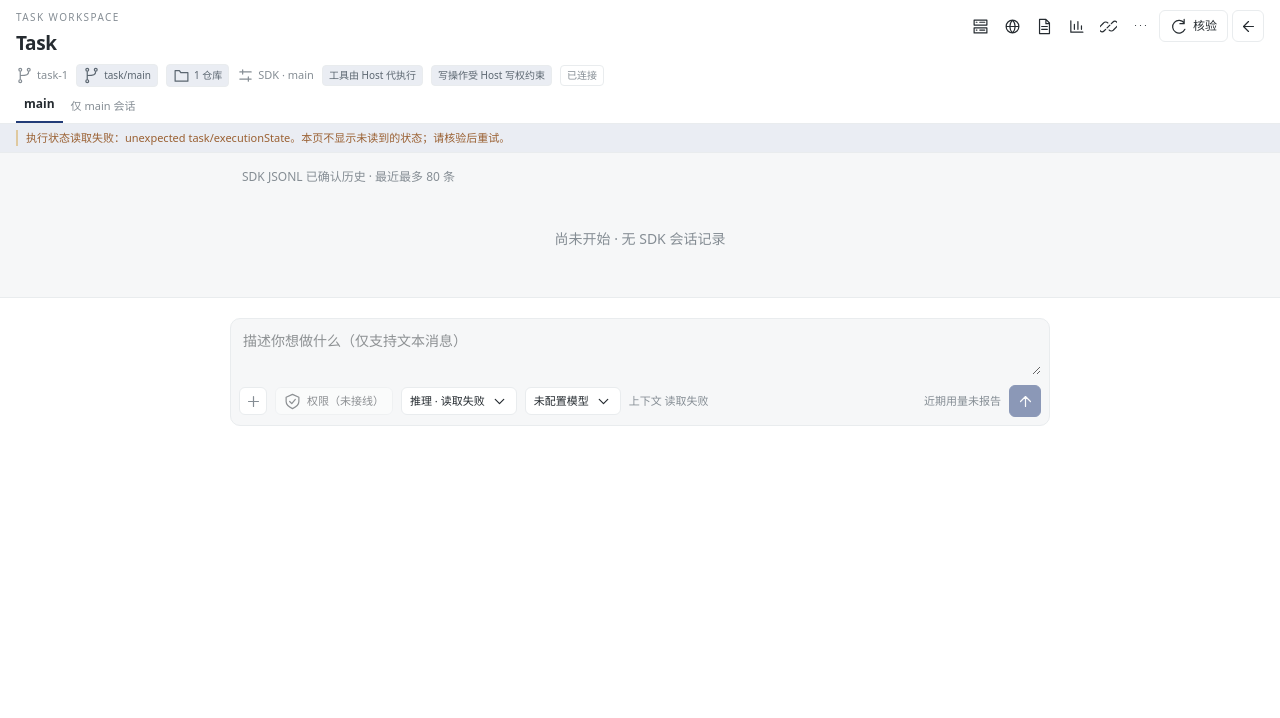
it: [PiDock 15] (#15 盒 3) 文件引用在桌面输入区 › [#117 第 1 项 / #16 盒 3] sends the reference identity with the turn and clears the chip
Expected: the text "尚未开始 · 无 SDK 会话记录" is shown, [554,229,725,248]
Click the button named "文件" at (1045, 26), box [1031,12,1059,40]
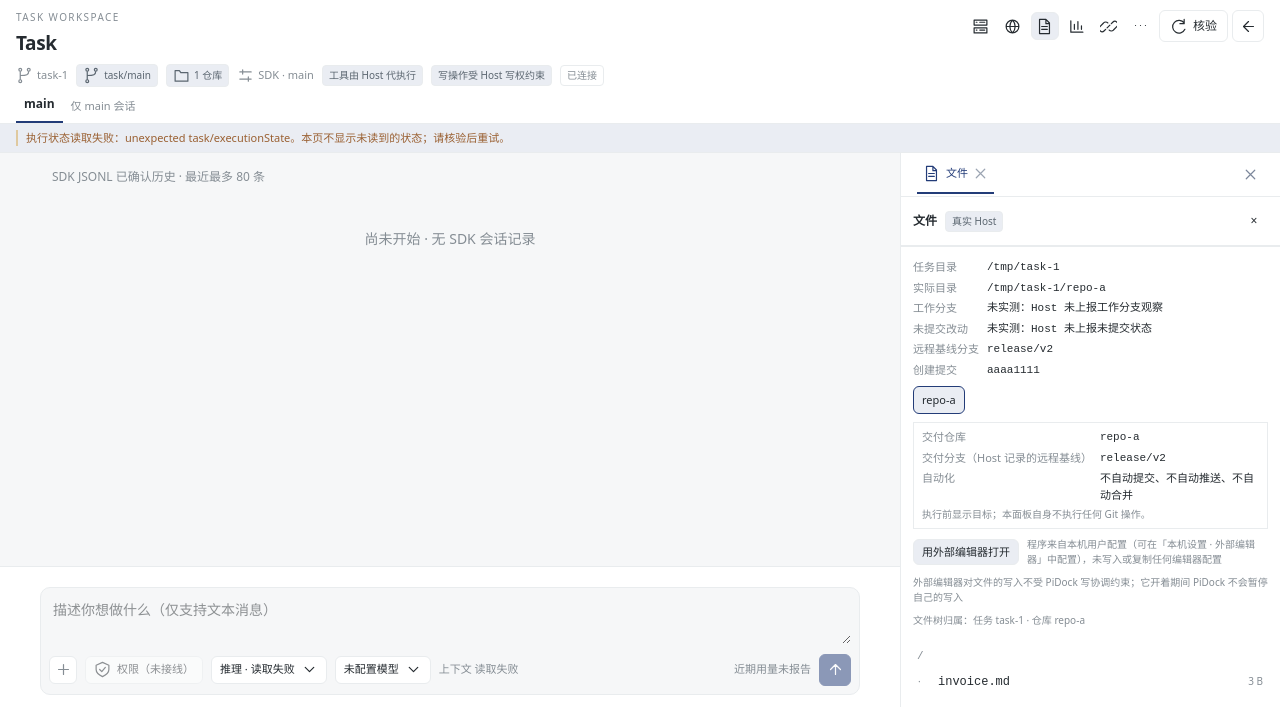
Click the text "invoice.md" at (974, 682), box [938,674,1010,690]
(page scrolled)
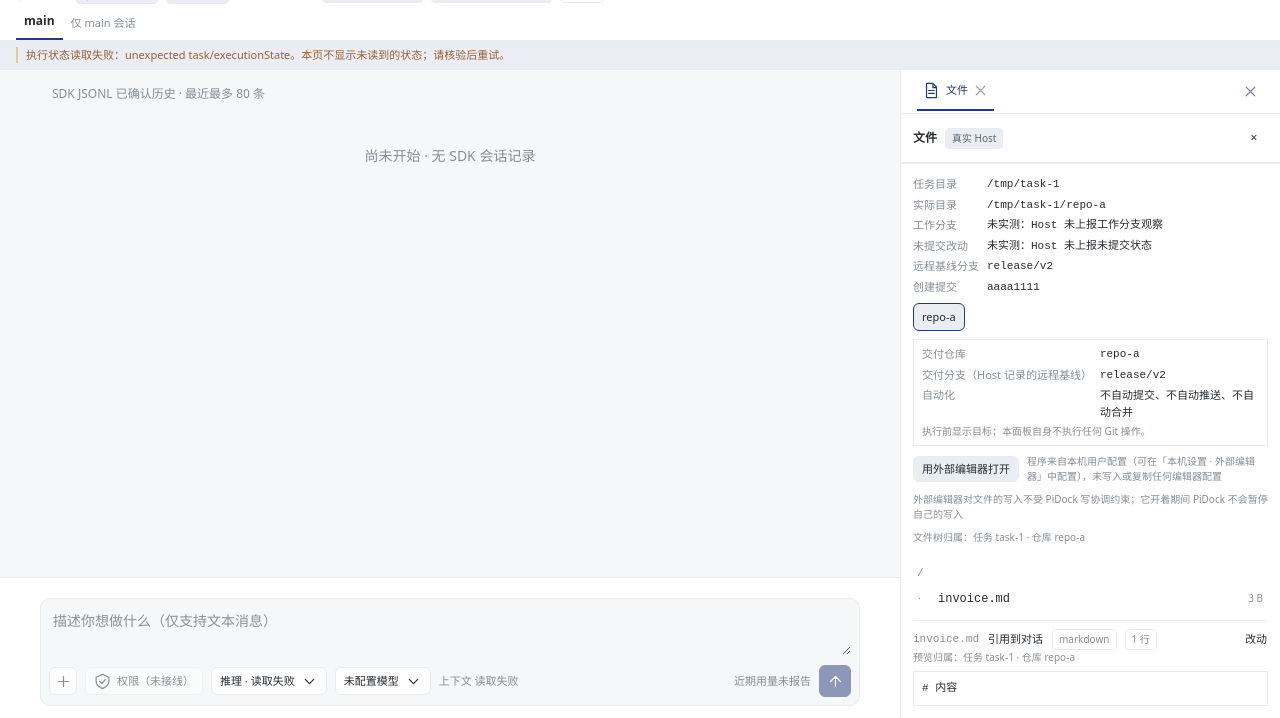
Now the element with test id "dock-preview-attribution" is shown, box [913,650,1075,664]
Click the button "引用到对话" at (1016, 639), box [987,630,1044,648]
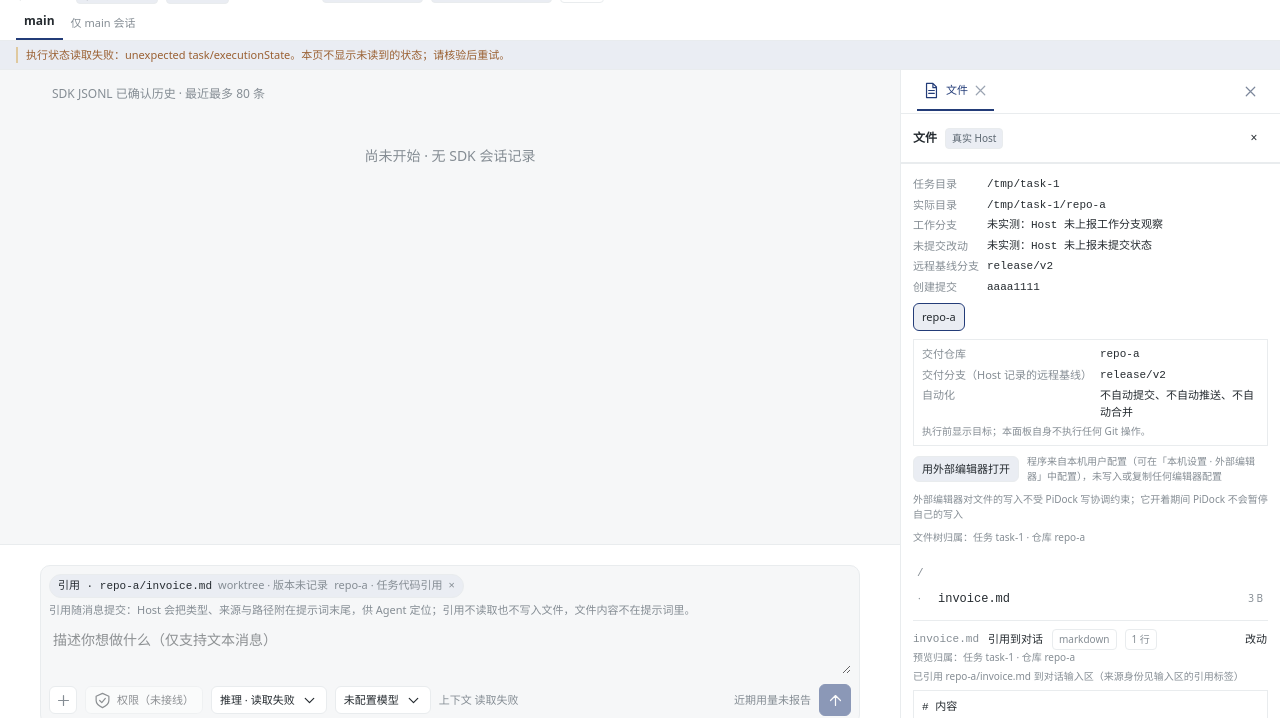
Now the list item with test id "composer-file-reference-task-file:repo-a:invoice.md" is shown, box [49,574,464,598]
Type "请看这个文件" into the text box labelled "消息" at (450, 650), box [49,626,851,674]
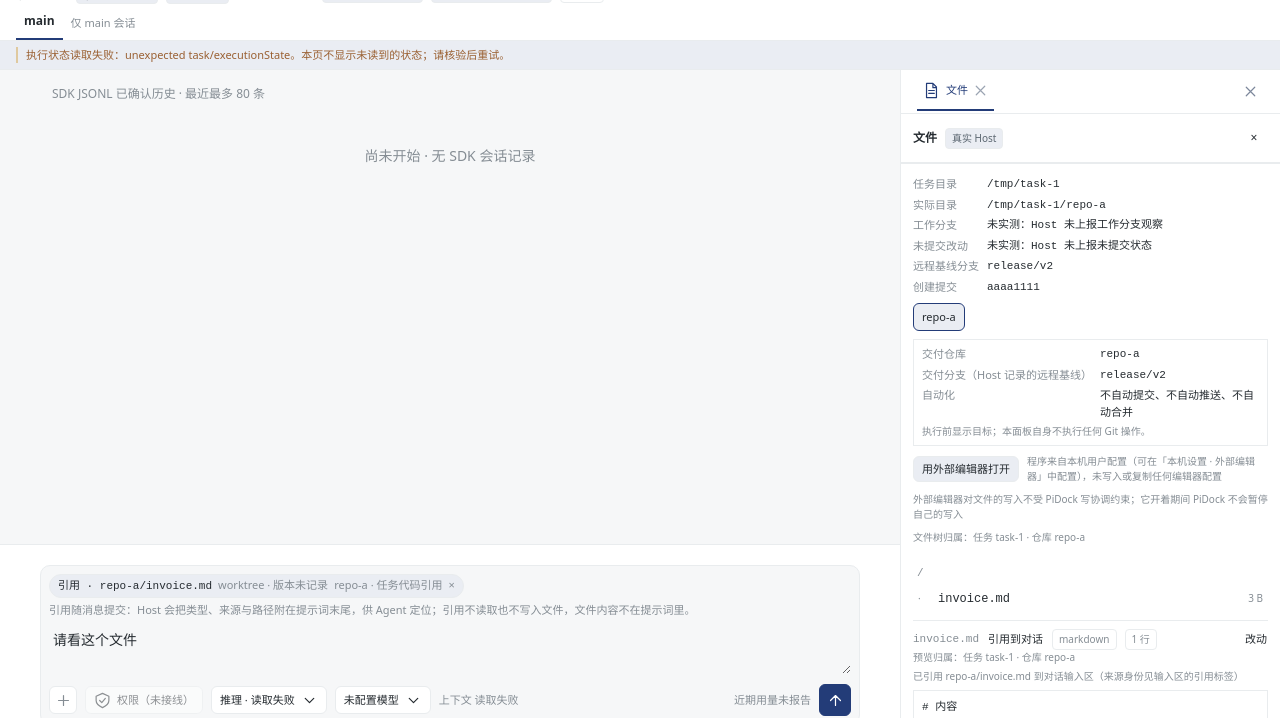
Click the button named "发送" at (835, 700), box [819,684,851,716]
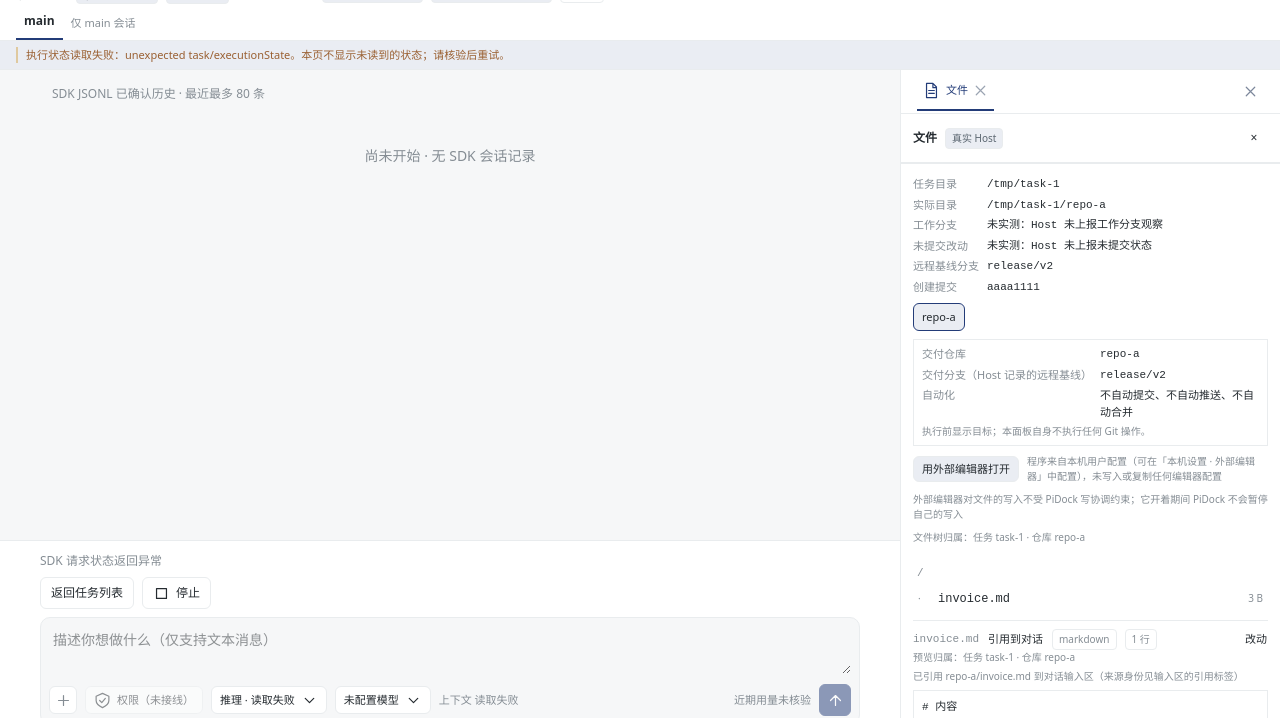
Now the button "停止" is shown, box [142,577,211,609]
